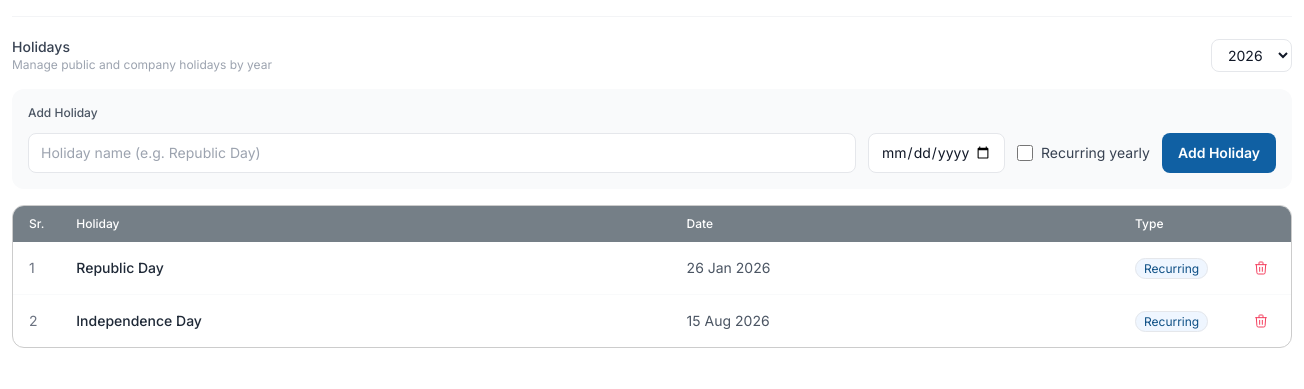
Scenario: HolidaySection › HolidaySection_EmptyName_ShowsValidationError
This screenshot has width=1304, height=389.
Expected: the text "Republic Day" is shown, [60,242,671,294]
Click the button "Add Holiday" at (1219, 153), box [1162,133,1276,173]
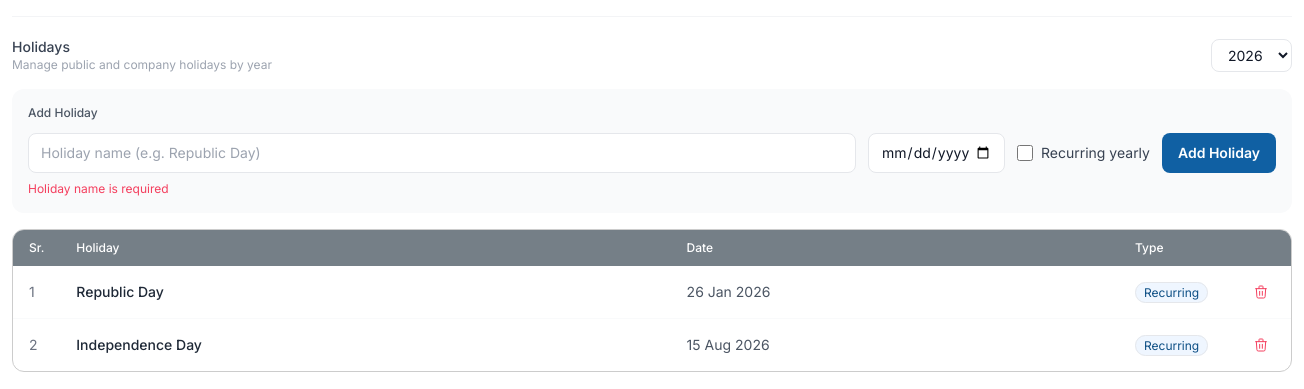
Expected: the text "Holiday name is required" is shown, [28,181,169,196]
